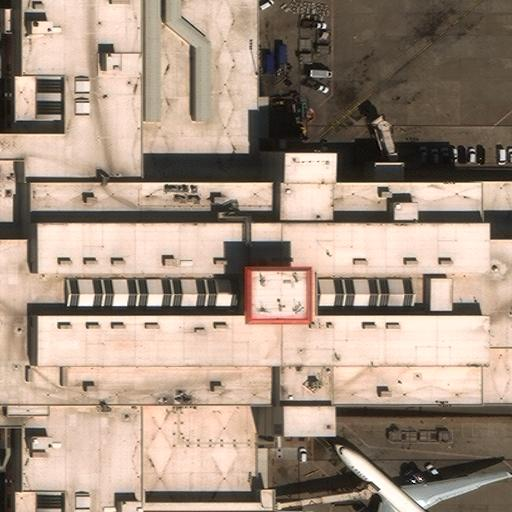Large Civil Transport: (333, 442, 507, 512)
